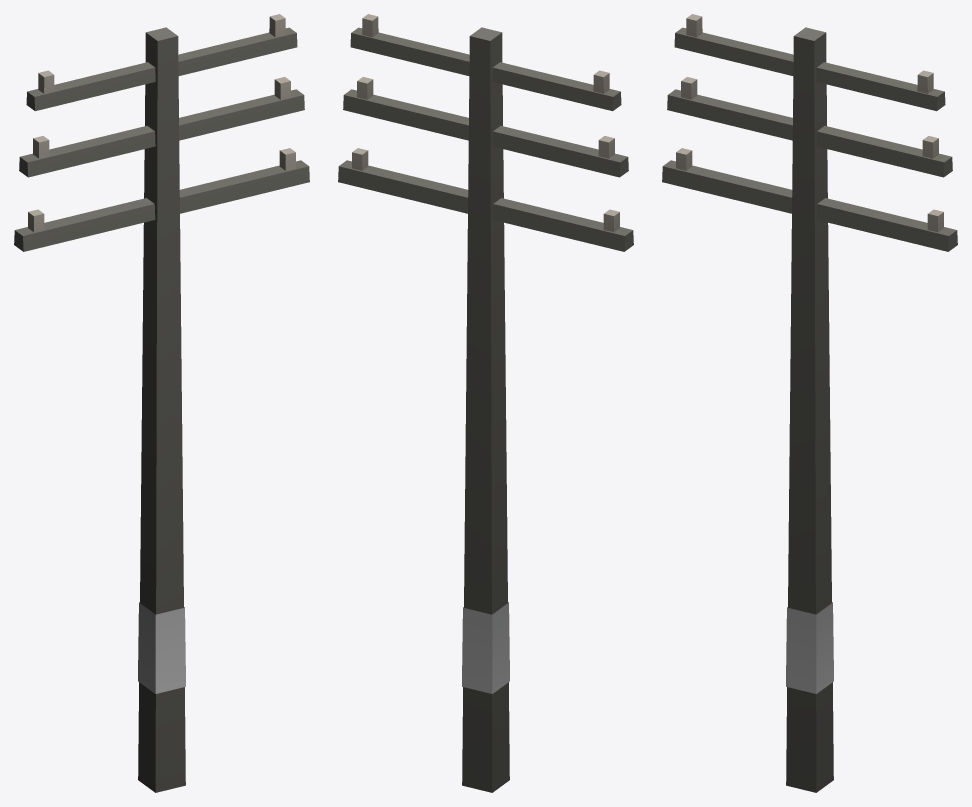
File: Electric_Pole.fbx
The picture shows the model from 3 angles, left to right: view 1: azimuth 30°, elevation 25°; view 2: azimuth 150°, elevation 25°; view 3: azimuth 330°, elevation 25°; orthographic projection.
Parts seen in each view (by area): view 1: Electric_Pole; view 2: Electric_Pole; view 3: Electric_Pole.
Part boxes in pixels (x1=…): Electric_Pole: x1=14, y1=14, x2=309, y2=792; Electric_Pole: x1=338, y1=14, x2=633, y2=792; Electric_Pole: x1=662, y1=14, x2=957, y2=792.
Size of the model in its own units: 416 by 1039 by 44.43.
